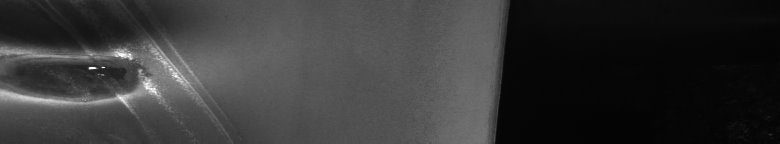ke: (4, 32, 227, 134)
